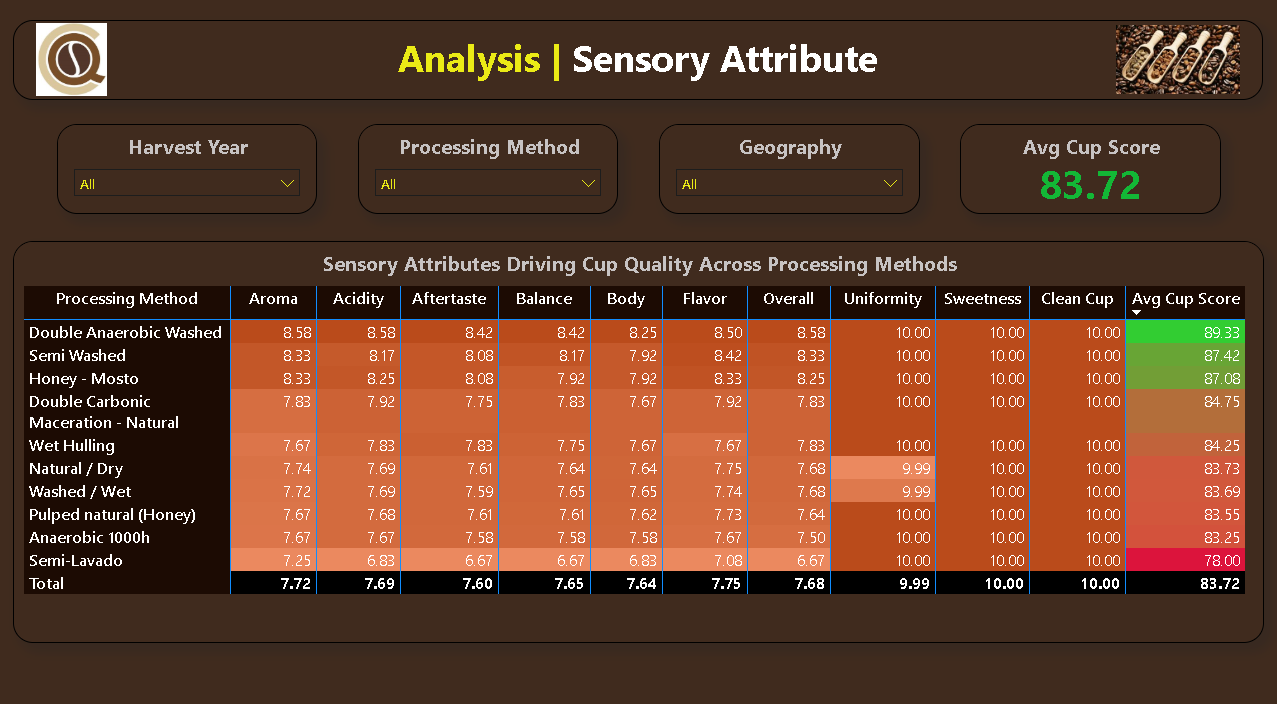

This screenshot's page, from the dashboard's own definition file:
{"tool":"powerbi","page":{"name":"Sensory Analysis","canvas":[1280,720],"ordinal":0},"visuals":[{"type":"pivotTable","title":"Sensory Attributes Driving Cup Quality Across Processing Methods","fields":{"Rows":["Dim Processing Method.Processing Method"],"Values":["Avg(df_arabica_clean.Aroma)","Avg(df_arabica_clean.Acidity)","Avg(df_arabica_clean.Aftertaste)","Avg(df_arabica_clean.Balance)","Avg(df_arabica_clean.Body)","Avg(df_arabica_clean.Flavor)","Avg(df_arabica_clean.Overall)","Avg(df_arabica_clean.Uniformity)","Avg(df_arabica_clean.Sweetness)","Avg(df_arabica_clean.Clean Cup)","df_arabica_clean.Avg Cup Score"]},"box":[14.4,244,1250.3,402.4],"z":0},{"type":"textbox","box":[14.4,22.6,1250.2,80.3],"z":1000,"group":"g2"},{"type":"group","id":"g1","title":"Group 1","box":[57.6,127.1,1163.9,89.8],"z":1000},{"type":"group","id":"g2","title":"Group 2","box":[14.4,22.6,1250.2,80.3],"z":2000},{"type":"image","box":[1117.3,25.4,123.7,73.7],"z":2000,"group":"g2"},{"type":"image","box":[23.7,25.4,99.1,73.7],"z":3000,"group":"g2"},{"type":"slicer","title":"Harvest Year","fields":{"Values":["df_arabica_clean.Harvest Year"]},"box":[57.6,127.1,260.3,89.5],"z":4000,"group":"g1"},{"type":"slicer","title":"Processing Method","fields":{"Values":["df_arabica_clean.Processing Method"]},"box":[358.7,127.1,260.3,90],"z":5000,"group":"g1"},{"type":"slicer","title":"Geography","fields":{"Values":["Dim Region.Geography Hierachy.Country of Origin","Dim Region.Geography Hierachy.Region","Dim Region.Geography Hierachy.AvgAltitude"]},"box":[659.9,127.1,260.3,90],"z":6000,"group":"g1"},{"type":"card","title":"Avg Cup Score","fields":{"Values":["df_arabica_clean.Avg Cup Score"]},"box":[961,127.1,260.3,90],"z":7000,"group":"g1"}]}

Visuals, with their boxes in screenshot pixels (x1, y1, x2, y2), scaled from the page's 1280x720 canvas onto the 1277x704 screenshot:
"Sensory Attributes Driving Cup Quality Across Processing Methods" pivotTable: region(14, 239, 1262, 632)
textbox: region(14, 22, 1262, 101)
"Group 1" group: region(57, 124, 1219, 212)
"Group 2" group: region(14, 22, 1262, 101)
image: region(1115, 25, 1238, 97)
image: region(24, 25, 123, 97)
"Harvest Year" slicer: region(57, 124, 317, 212)
"Processing Method" slicer: region(358, 124, 618, 212)
"Geography" slicer: region(658, 124, 918, 212)
"Avg Cup Score" card: region(959, 124, 1218, 212)
